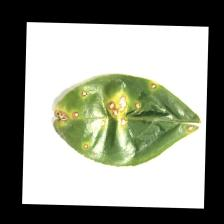canker: (53, 92, 148, 132)
